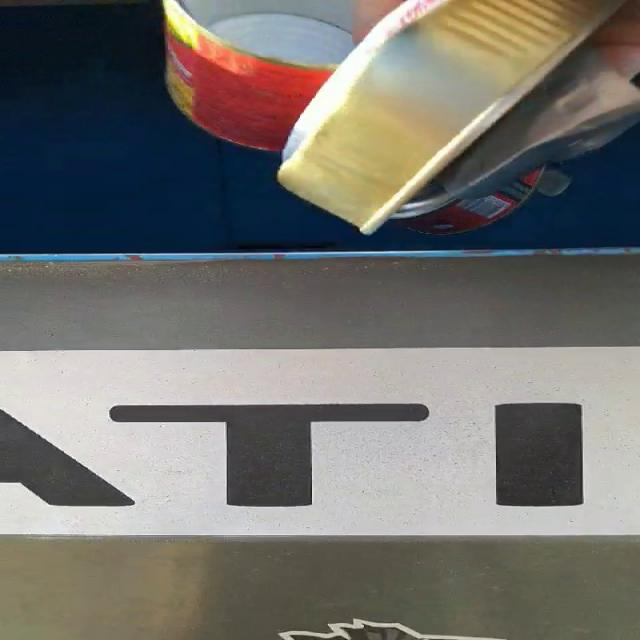bin: (1, 2, 640, 640)
metal: (163, 0, 640, 234)
